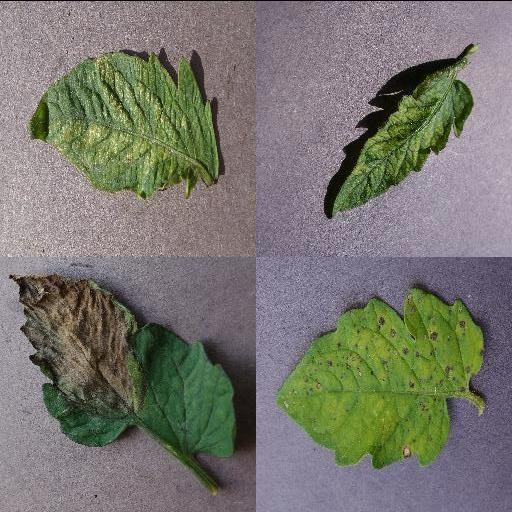Late Blight: (8, 270, 238, 456)
Mosaic Virus: (329, 68, 473, 222)
Septoria: (271, 286, 485, 466)
Spider Mites: (29, 47, 223, 197)
